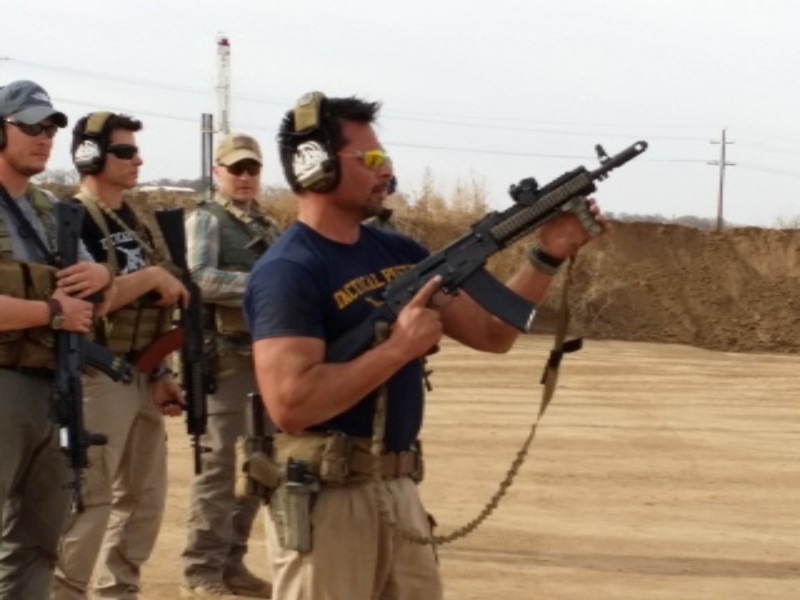person: (245, 92, 613, 600), (1, 79, 118, 600), (71, 111, 189, 600), (183, 136, 274, 600)
weapon: (329, 139, 647, 368), (52, 203, 132, 515), (136, 206, 222, 475)
